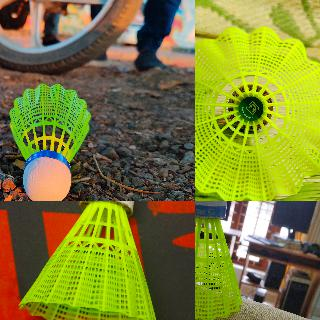shuttlecock: (195, 25, 319, 200), (18, 201, 158, 319), (9, 83, 92, 200), (195, 201, 242, 319)
